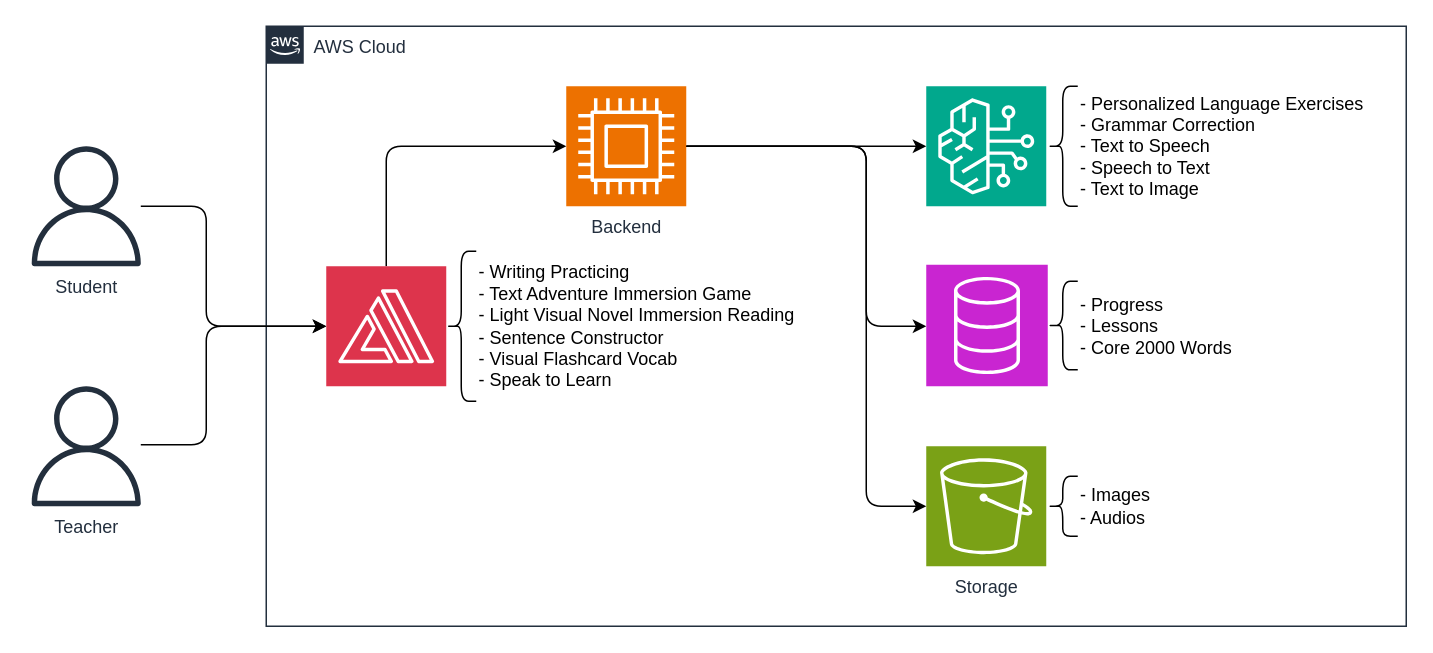
Image size: 1433x653. Some labels were removed from this diagram. Each missing label, with the box of its shape:
AI: (925, 85, 1046, 206)
Database: (925, 263, 1048, 386)
Frontend: (325, 265, 446, 386)
